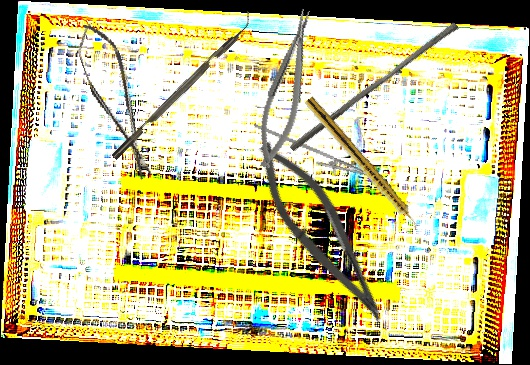Chopper: (104, 10, 259, 160)
Handpiece: (301, 95, 424, 234)
Micro Scissor: (239, 132, 407, 332), (70, 17, 161, 186)
Needle Holder: (247, 6, 327, 172), (246, 123, 382, 188)
Pusher: (288, 15, 460, 159)
